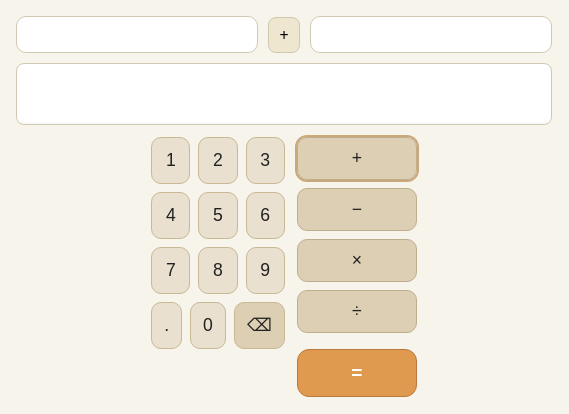
keypad backspace deletes last char
Step 1. Click the button "2" → (218, 160), box 198,137 -> 238,184
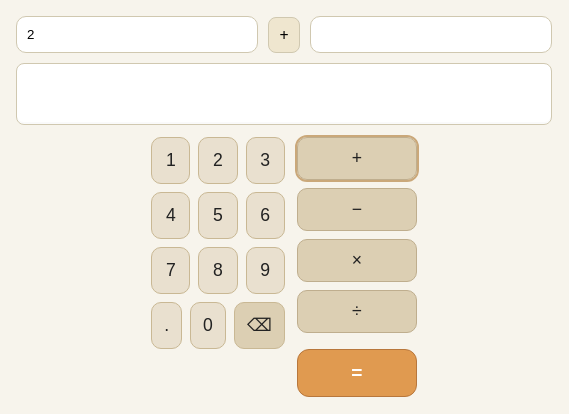
Step 2. Click the button "2" → (218, 160), box 198,137 -> 238,184
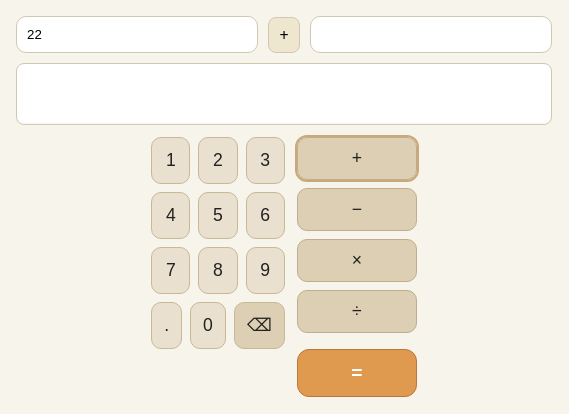
Expected: the field named "input-a" holds "22", 16,16 -> 258,53
Step 3. Click the button "⌫" → (259, 326), box 234,302 -> 285,349
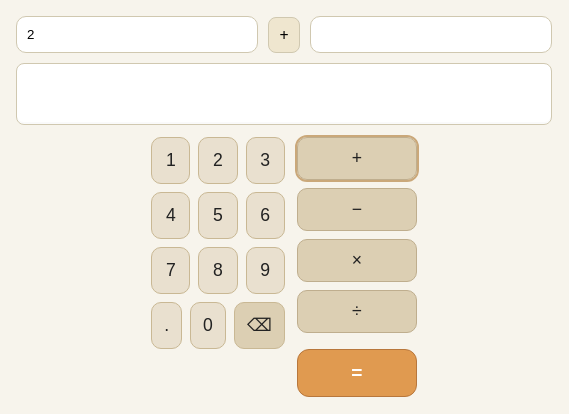
Expected: the field named "input-a" holds "2", 16,16 -> 258,53
